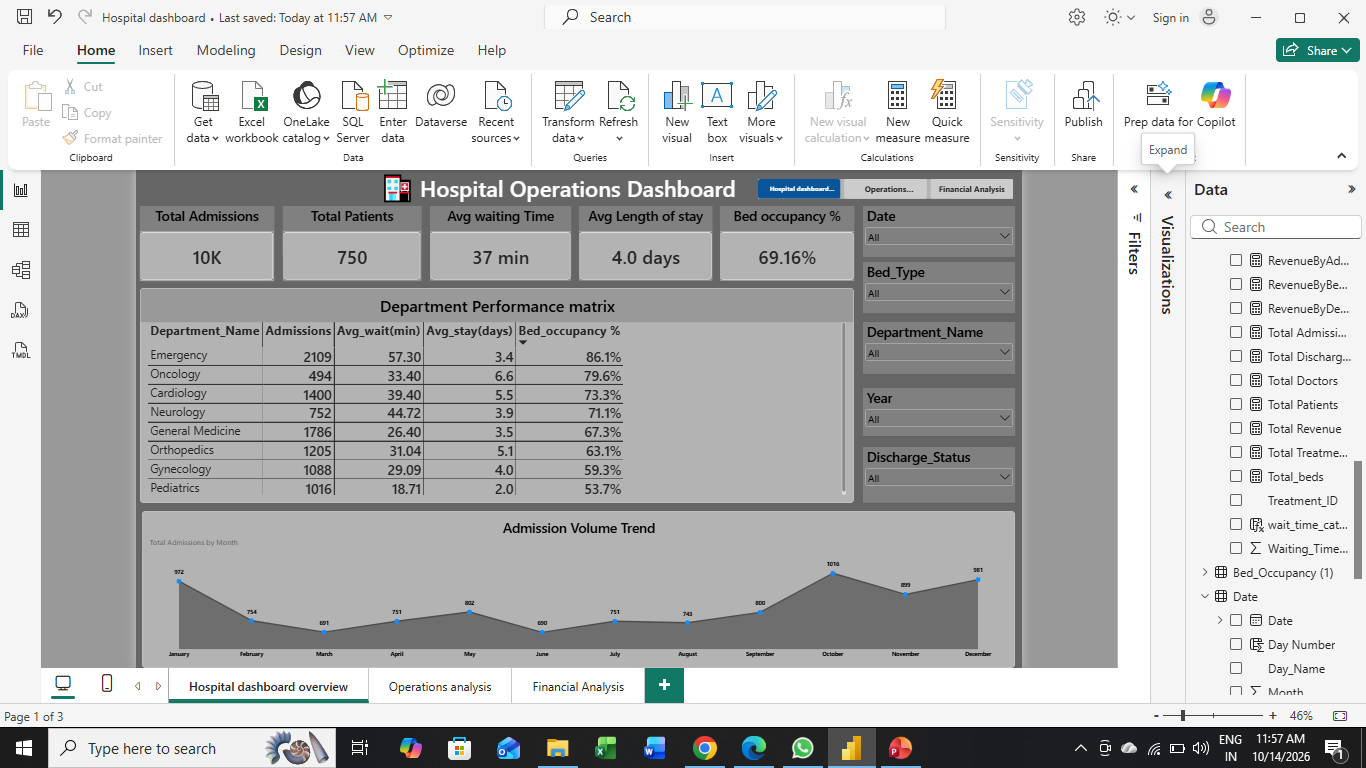

What the dashboard file says about the page in this screenshot:
{"tool":"powerbi","page":{"name":"Hospital dashboard overview","canvas":[1920,1080],"ordinal":0},"visuals":[{"type":"textbox","box":[0,0,1845.4,78.7],"z":0},{"type":"cardVisual","title":"Total Admissions","fields":{"Data":["Admissions_cleaned (1).Total Admissions"]},"box":[8.7,78.1,290.6,162.7],"z":1000},{"type":"cardVisual","title":"Total Patients ","fields":{"Data":["Admissions_cleaned (1).Total Patients"]},"box":[318.9,78.7,299.8,161.6],"z":2000},{"type":"cardVisual","title":"Avg waiting Time","fields":{"Data":["Admissions_cleaned (1).Average Waiting Time Display"]},"box":[637.8,78.7,306.1,161.6],"z":3000},{"type":"cardVisual","title":"Avg Length of stay","fields":{"Data":["Admissions_cleaned (1).Average Length of Stay Display"]},"box":[960.9,78.7,289.1,161.6],"z":4000},{"type":"cardVisual","title":"Bed occupancy %","fields":{"Data":["Admissions_cleaned (1).Bed_occupancy %"]},"box":[1266.5,78.1,291.1,162.2],"z":5000},{"type":"slicer","fields":{"Values":["Date.Date"]},"box":[1576.6,78.1,329.6,110.6],"z":6000},{"type":"slicer","fields":{"Values":["Date.Year"]},"box":[1576.6,472.8,329.6,104.1],"z":7000},{"type":"slicer","fields":{"Values":["Admissions_cleaned (1).Discharge_Status"]},"box":[1576.6,600.7,329.6,121.4],"z":8000},{"type":"slicer","fields":{"Values":["Admissions_cleaned (1).Bed_Type"]},"box":[1576.6,199.5,329.6,110.6],"z":9000},{"type":"slicer","fields":{"Values":["Departments.Department_Name"]},"box":[1576.6,329.6,329.6,112.8],"z":10000},{"type":"lineChart","title":"Admission Volume Trend","fields":{"Category":["Date.Date.Variation.Date Hierarchy.Month"],"Y":["Admissions_cleaned (1).Total Admissions"]},"box":[13,739.5,1893.3,340.5],"z":11000},{"type":"pivotTable","title":"Department  Performance matrix","fields":{"Rows":["Departments.Department_Name"],"Values":["Admissions_cleaned (1).Total Admissions","Admissions_cleaned (1).Average_Waiting_Time","Admissions_cleaned (1).Average_length_ofstay","Admissions_cleaned (1).Bed_occupancy %"]},"box":[8.7,255.9,1548.4,466.3],"z":12000},{"type":"pageNavigator","box":[1348.9,19.5,553,43.4],"z":13000}]}

Visuals, with their boxes on the page's 1920x1080 design canvas (x1, y1, x2, y2). These are canvas units, not pixel positions in the 1366x768 screenshot, which may show the page scaled, cropped or inside an application window:
textbox: region(0, 0, 1845, 79)
"Total Admissions" cardVisual: region(9, 78, 299, 241)
"Total Patients " cardVisual: region(319, 79, 619, 240)
"Avg waiting Time" cardVisual: region(638, 79, 944, 240)
"Avg Length of stay" cardVisual: region(961, 79, 1250, 240)
"Bed occupancy %" cardVisual: region(1266, 78, 1558, 240)
slicer - Date.Date: region(1577, 78, 1906, 189)
slicer - Date.Year: region(1577, 473, 1906, 577)
slicer - Admissions_cleaned (1).Discharge_Status: region(1577, 601, 1906, 722)
slicer - Admissions_cleaned (1).Bed_Type: region(1577, 200, 1906, 310)
slicer - Departments.Department_Name: region(1577, 330, 1906, 442)
"Admission Volume Trend" lineChart: region(13, 740, 1906, 1080)
"Department  Performance matrix" pivotTable: region(9, 256, 1557, 722)
pageNavigator: region(1349, 20, 1902, 63)
